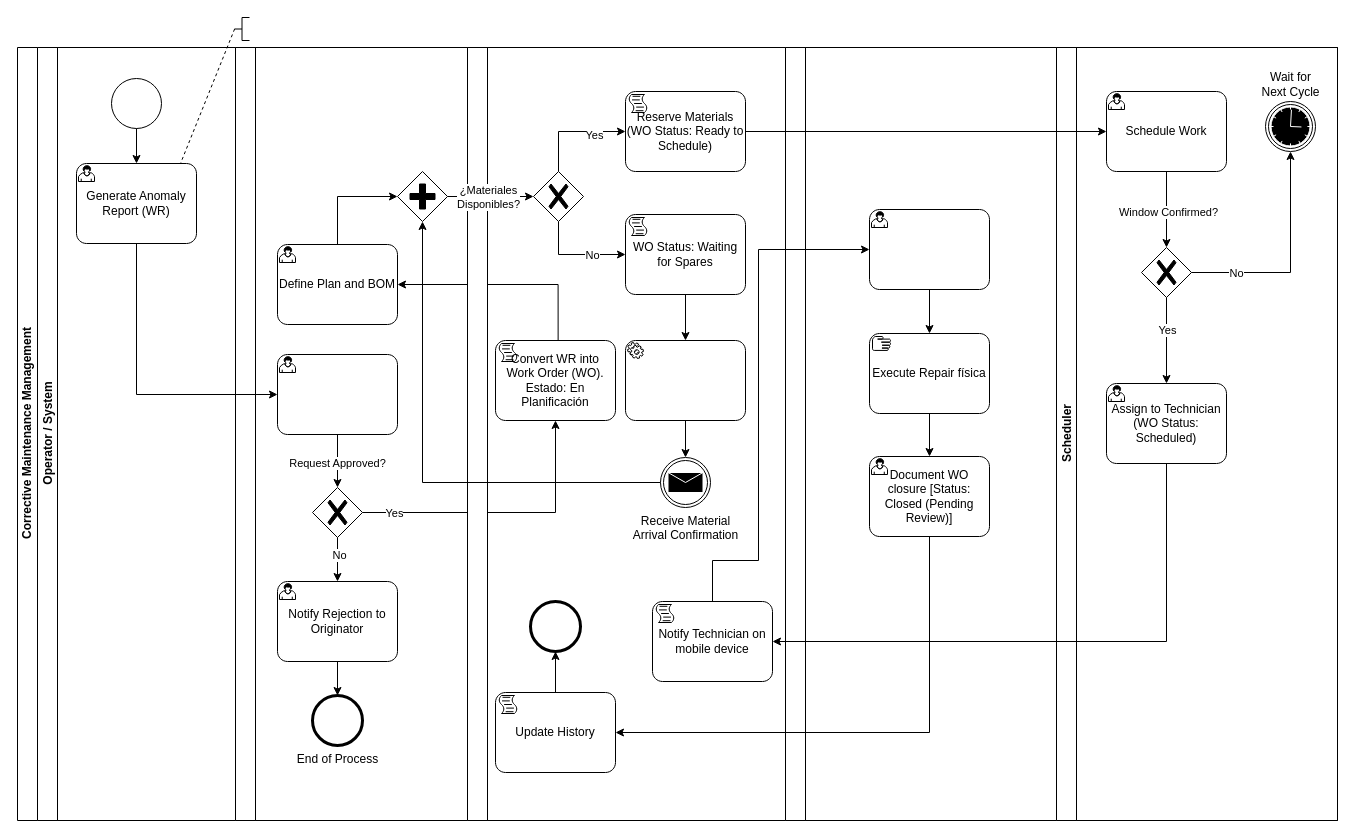
This 1355x838 diagram has some shape labels left out. The box of each missing label's shape, as (x1, y1, x2, y2) in pixels:
Anomaly Detected: (110, 78, 162, 128)
Generate Purchase Request (ERP): (624, 340, 746, 420)
Maintenance Planner: (234, 46, 468, 820)
Maintenance Technician: (784, 46, 1056, 820)
Or an automatic system alert: (234, 16, 250, 40)
Review and Validate Request: (276, 354, 398, 434)
System (CMMS): (466, 46, 786, 820)
WO Cycle Completed: (530, 600, 580, 652)
WO Status: In Progress: (868, 208, 990, 290)
